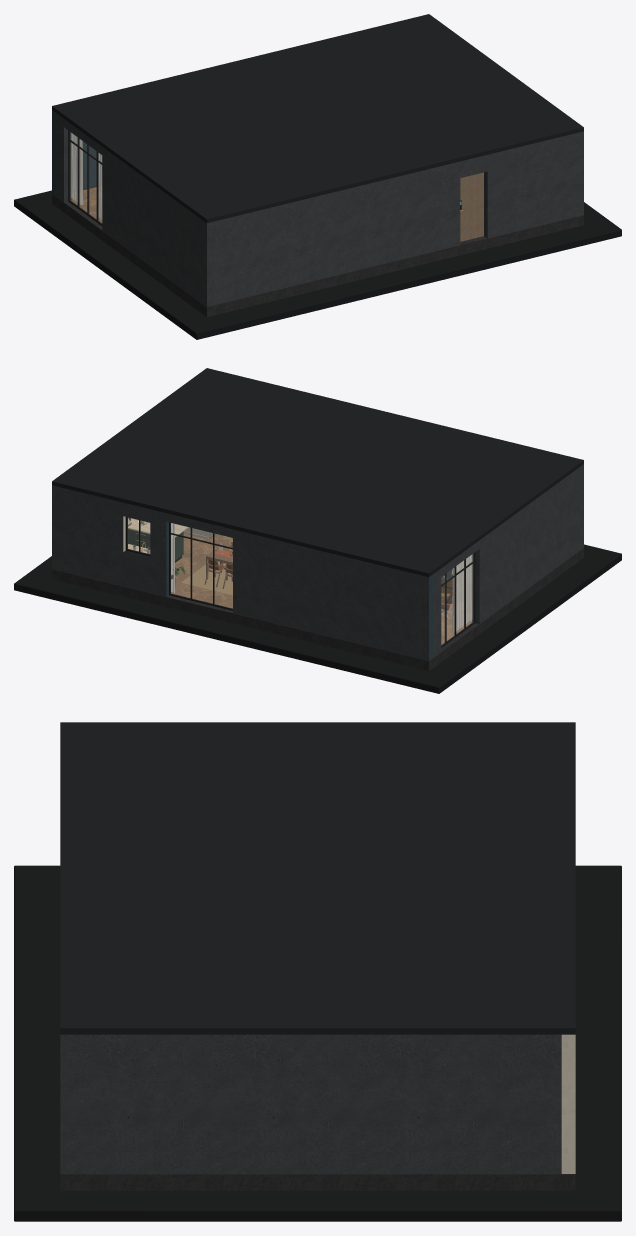
3 renders of one model, top to bottom at view 1: azimuth 30°, elevation 25°; view 2: azimuth 150°, elevation 25°; view 3: azimuth 270°, elevation 25°, orthographic. The views are drawn at different scales.
Visible parts, largest first — view 1: ceiling.slab, plinth, wallF.S.bed.0, wallF.S.stu.0, wall.W.bed.0, wallF.S.bath.0, slab, wall.S.bed.0, win.liv.glass, wall.W.liv.0, door.front.leaf, wall.S.stu.0 (+7 smaller); view 2: ceiling.slab, wall.N.liv.0, plinth, wall.W.bed.0, wall.N.kit.3, slab, win.din.glass, wall.W.liv.0, win.liv.glass, curtain.liv.a, wall.N.din.2, wall.N.kit.1 (+8 smaller); view 3: ceiling.slab, plinth, wallF.E.bath.0, wallF.E.kit.0, slab, wall.E.bath.0, wall.E.kit.0, wall.N.kit.3, wallF.S.bath.0.
Part boxes in pixels (left/top/right/bottom): ceiling.slab: left=52, top=14, right=583, bottom=222; plinth: left=14, top=190, right=621, bottom=339; wallF.S.bed.0: left=202, top=190, right=340, bottom=293; wallF.S.stu.0: left=341, top=164, right=449, bottom=260; wall.W.bed.0: left=122, top=161, right=202, bottom=303; wallF.S.bath.0: left=498, top=131, right=583, bottom=222; slab: left=52, top=194, right=583, bottom=316; wall.S.bed.0: left=202, top=261, right=340, bottom=306; win.liv.glass: left=70, top=132, right=101, bottom=222; wall.W.liv.0: left=102, top=147, right=122, bottom=244; door.front.leaf: left=460, top=172, right=483, bottom=241; wall.S.stu.0: left=341, top=234, right=449, bottom=274; ceiling.slab: left=52, top=368, right=583, bottom=576; wall.N.liv.0: left=240, top=531, right=433, bottom=660; plinth: left=14, top=544, right=621, bottom=693; wall.W.bed.0: left=499, top=467, right=579, bottom=608; wall.N.kit.3: left=52, top=485, right=125, bottom=586; slab: left=52, top=548, right=583, bottom=670; win.din.glass: left=171, top=523, right=232, bottom=608; wall.W.liv.0: left=472, top=526, right=499, bottom=623; win.liv.glass: left=441, top=554, right=473, bottom=644; curtain.liv.a: left=452, top=554, right=472, bottom=631; wall.N.din.2: left=156, top=510, right=168, bottom=596; wall.N.kit.1: left=123, top=550, right=150, bottom=592; ceiling.slab: left=60, top=722, right=575, bottom=1034; plinth: left=14, top=865, right=621, bottom=1221; wallF.E.bath.0: left=74, top=1034, right=341, bottom=1151; wallF.E.kit.0: left=341, top=1034, right=561, bottom=1151; slab: left=60, top=1174, right=575, bottom=1190; wall.E.bath.0: left=74, top=1152, right=341, bottom=1173; wall.E.kit.0: left=341, top=1152, right=561, bottom=1173; wall.N.kit.3: left=561, top=1034, right=575, bottom=1173; wallF.S.bath.0: left=60, top=1034, right=74, bottom=1151.
Bounding box in the file's own units: 14.08 × 3.31 × 10.48.
218 materials, 124 textured.
